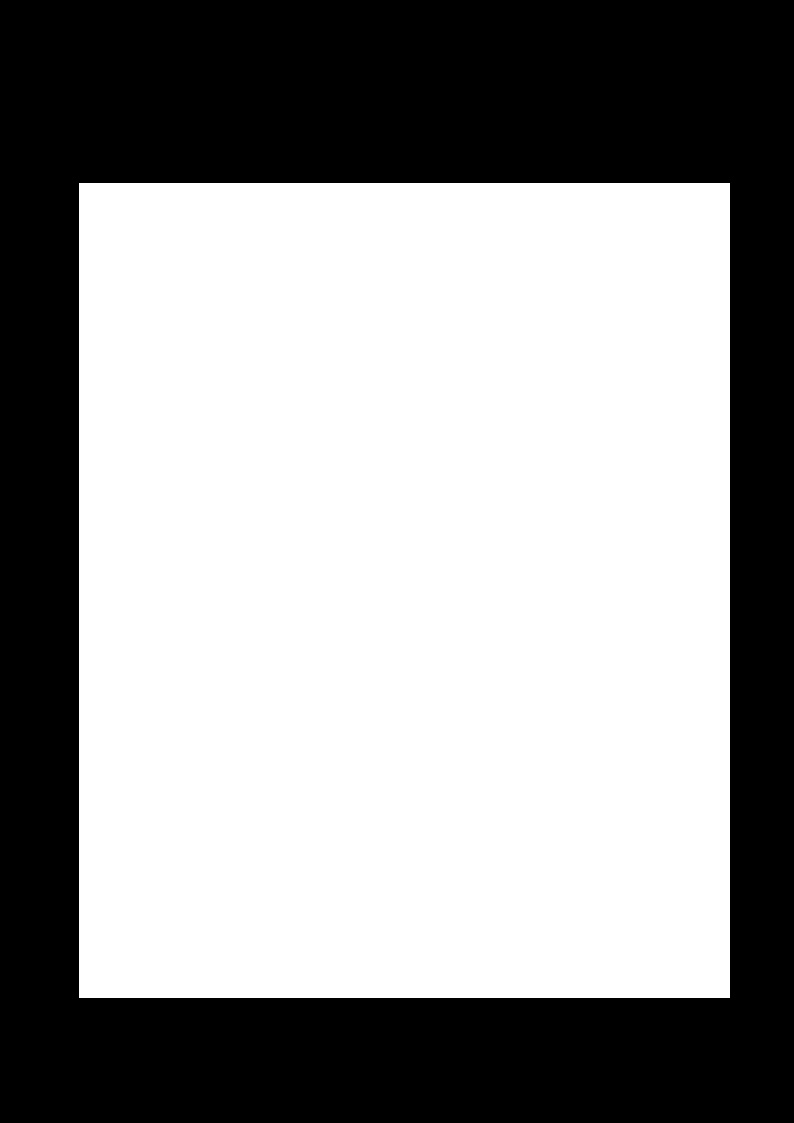table: (79, 183, 729, 997)
